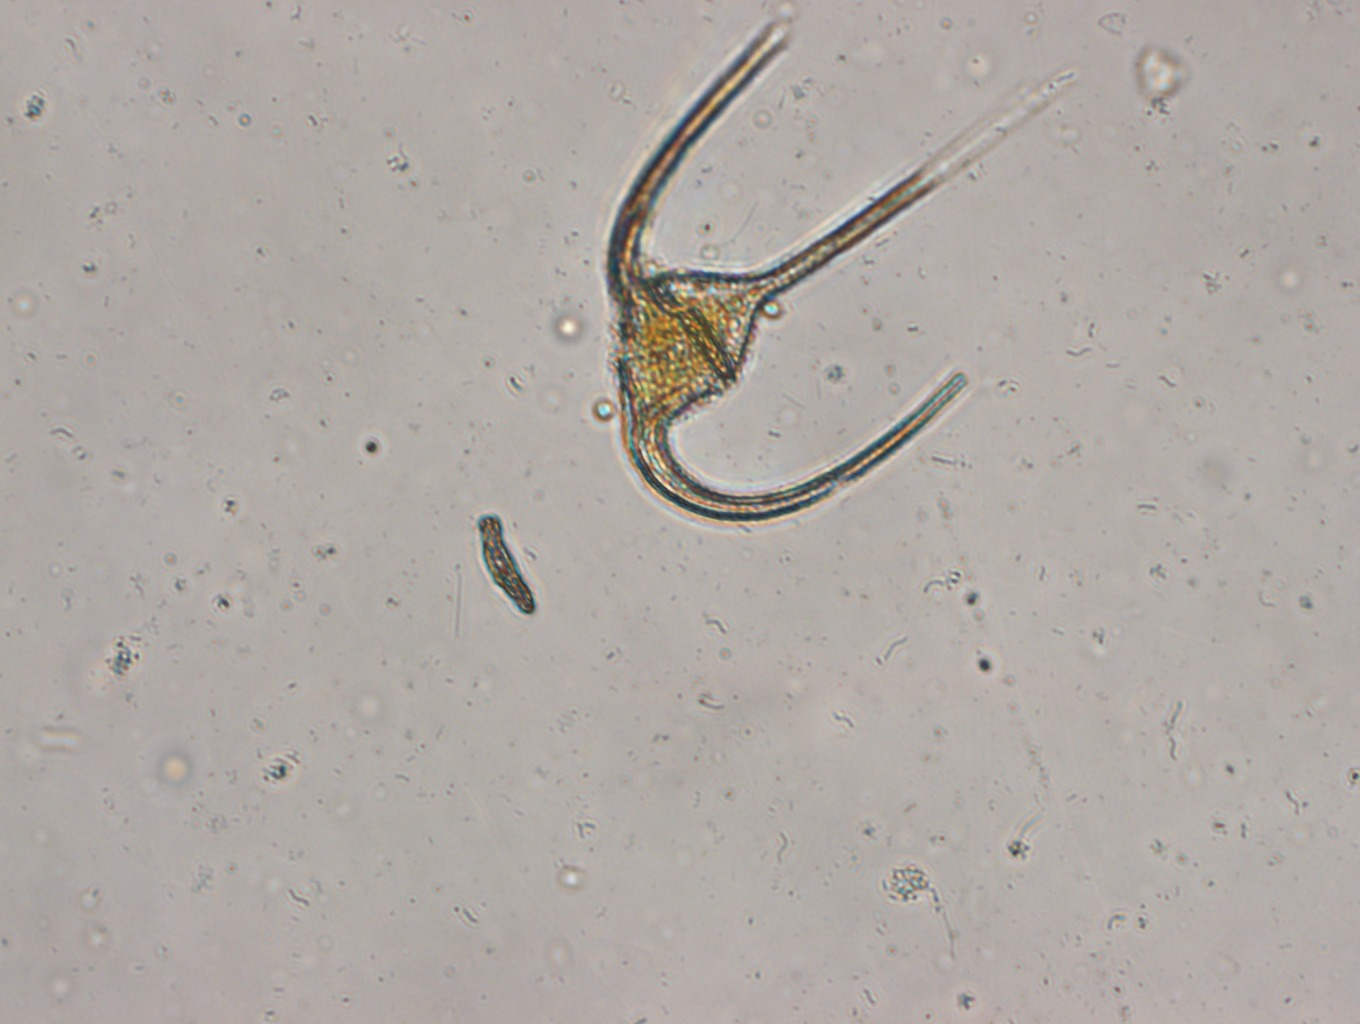ceratium trichoceros: (599, 9, 1072, 534)
